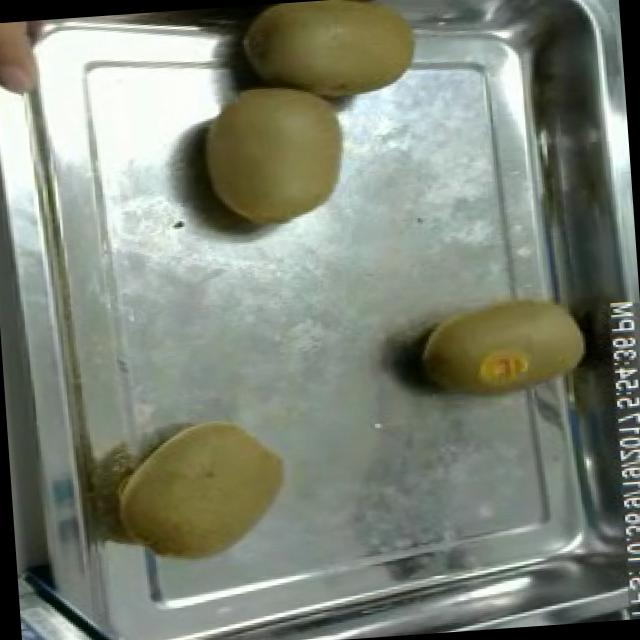Fruit: (100, 402, 302, 575), (186, 68, 358, 238), (403, 283, 602, 416), (228, 0, 429, 113), (0, 17, 64, 104)
